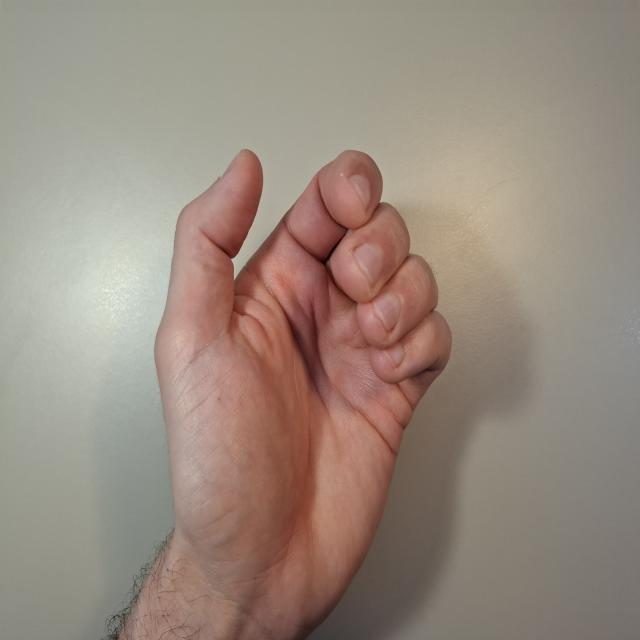glove_off: (152, 146, 454, 640)
